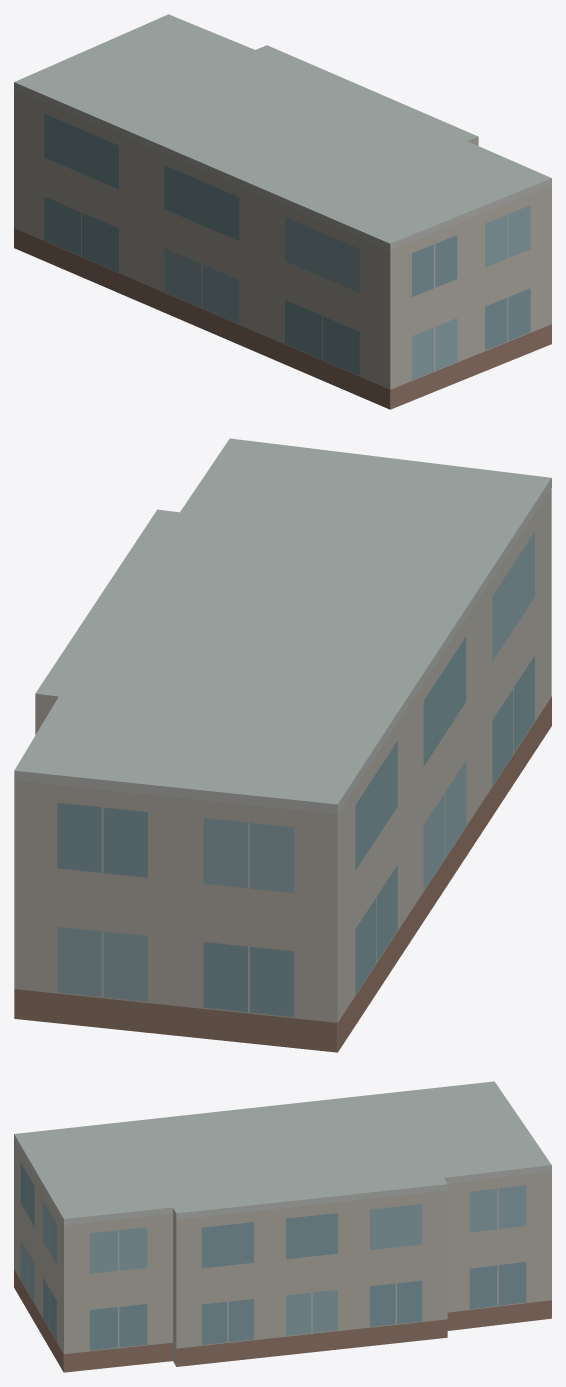
The model's file is survey-upis-32642601.glb.
3 renders of one model, top to bottom at view 1: azimuth 30°, elevation 25°; view 2: azimuth 150°, elevation 25°; view 3: azimuth 270°, elevation 25°, orthographic. The views are drawn at different scales.
Visible parts, largest first — view 1: survey-upis-32642601.tmp; view 2: survey-upis-32642601.tmp; view 3: survey-upis-32642601.tmp.
Part boxes in pixels (bbox=[...]): survey-upis-32642601.tmp: bbox=[14, 14, 551, 409]; survey-upis-32642601.tmp: bbox=[14, 438, 551, 1052]; survey-upis-32642601.tmp: bbox=[14, 1081, 551, 1372].
Bounding box in the file's own units: 11.75 × 6.1 × 19.38.
